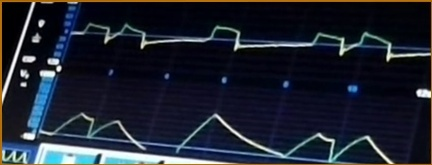Double_Triggering Flow: (76, 11, 421, 69)
Double_Triggering Volume: (51, 97, 396, 164)
